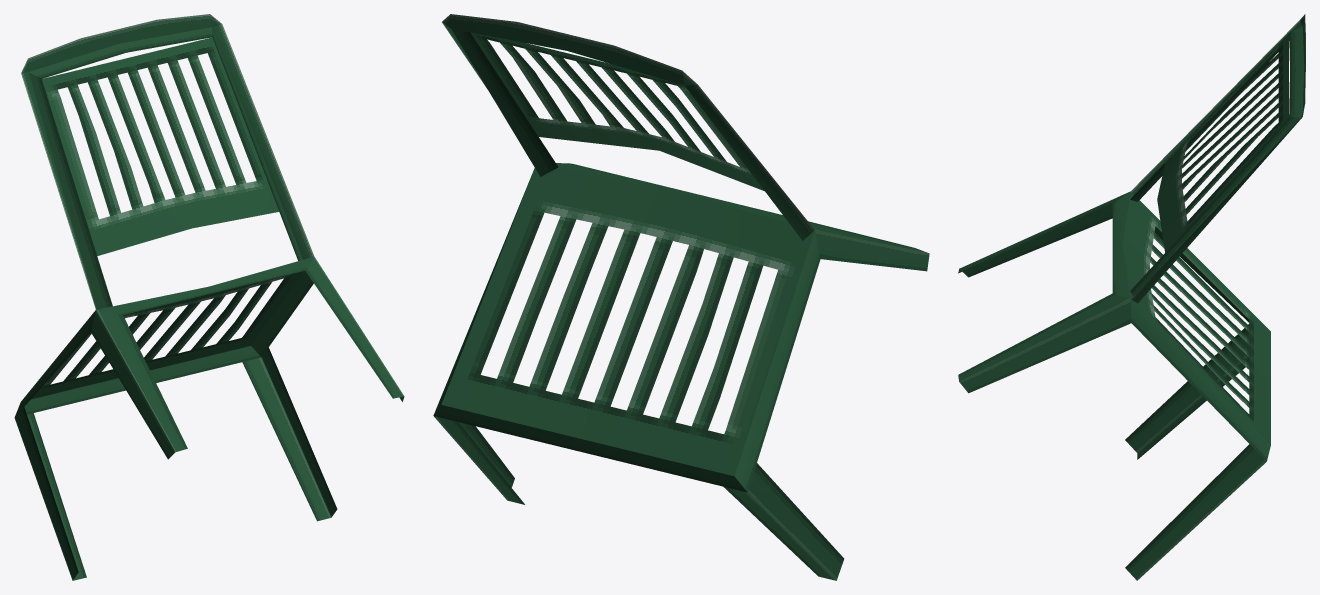
The model's file is PatioChair.obj.
The picture shows the model from 3 angles, left to right: view 1: azimuth 30°, elevation 25°; view 2: azimuth 150°, elevation 25°; view 3: azimuth 270°, elevation 25°; orthographic projection. The views are drawn at different scales.
Parts seen in each view (by area): view 1: lwnchair_geoShape; view 2: lwnchair_geoShape; view 3: lwnchair_geoShape.
Boxes of the visible parts, bbox=[...] form: lwnchair_geoShape: bbox=[14, 14, 404, 580]; lwnchair_geoShape: bbox=[433, 14, 929, 580]; lwnchair_geoShape: bbox=[958, 14, 1305, 580].
Bounding box in the file's own units: 0.867 × 1.47 × 0.9966.
1 material, 1 textured.
